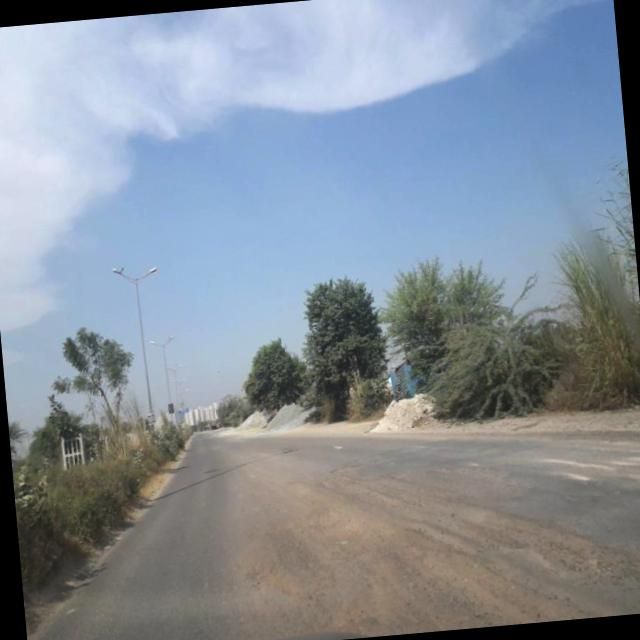pothole: (232, 425, 640, 626)
